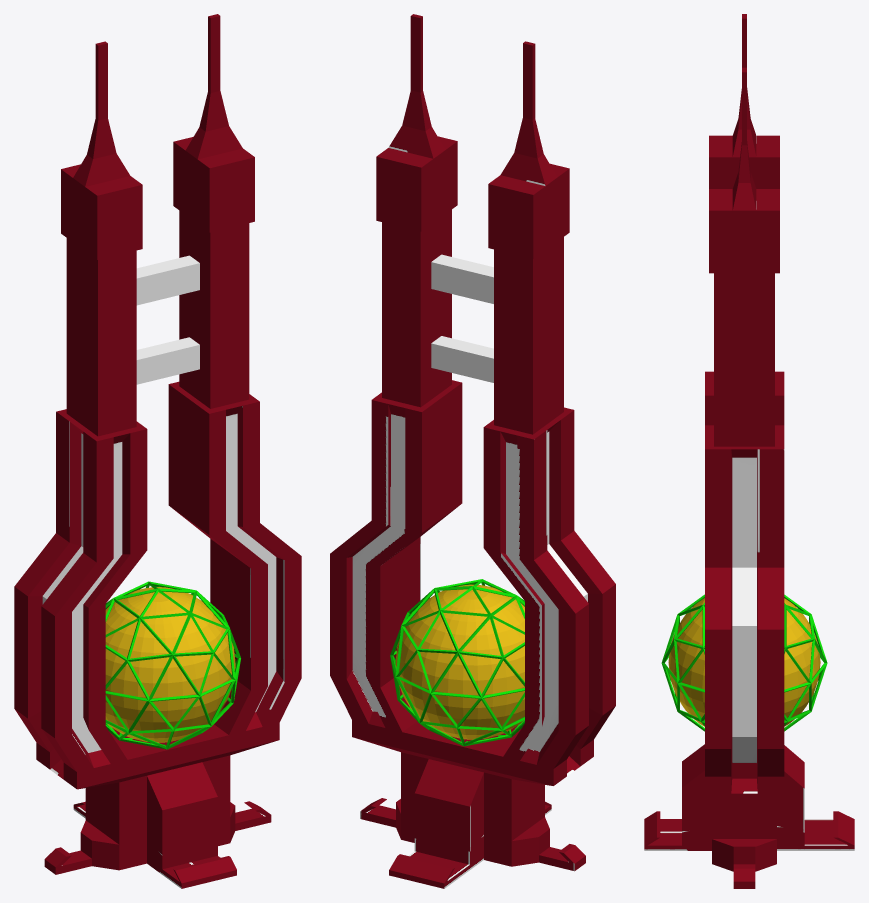
The model's file is antena.fbx.
The picture shows the model from 3 angles, left to right: view 1: azimuth 30°, elevation 25°; view 2: azimuth 150°, elevation 25°; view 3: azimuth 270°, elevation 25°; orthographic projection. The views are drawn at different scales.
Visible parts, largest first — view 1: Cube, Sphere, Icosphere; view 2: Cube, Sphere, Icosphere; view 3: Cube, Sphere, Icosphere.
Part boxes in pixels (x1,y1,x2,y2): Cube: (14,14,301,888); Sphere: (105,587,235,742); Icosphere: (105,581,240,749); Cube: (330,14,615,888); Sphere: (395,584,524,739); Icosphere: (390,579,524,746); Cube: (644,14,854,888); Sphere: (668,598,820,726); Icosphere: (661,594,827,731).
Size of the model in its own units: 587 by 1854 by 445.
